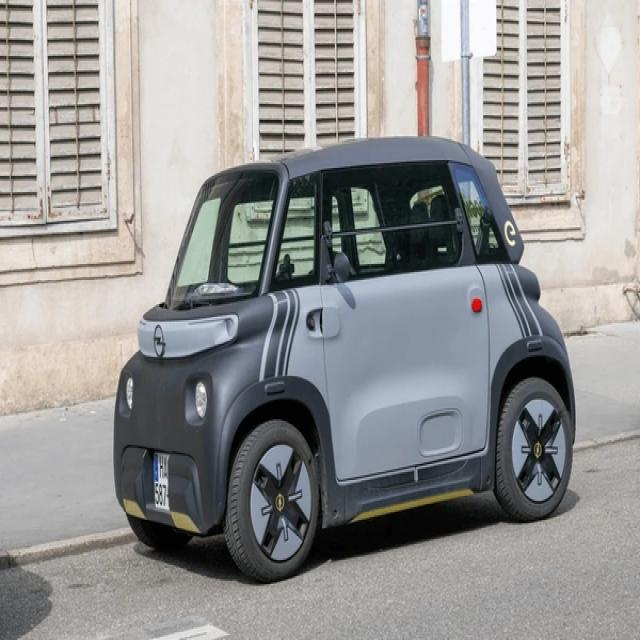opel: (148, 325, 175, 360)
